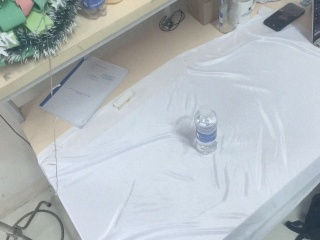bottle: (210, 1, 257, 34), (193, 105, 218, 155)
box: (183, 1, 221, 25)
phone: (263, 1, 306, 32)
